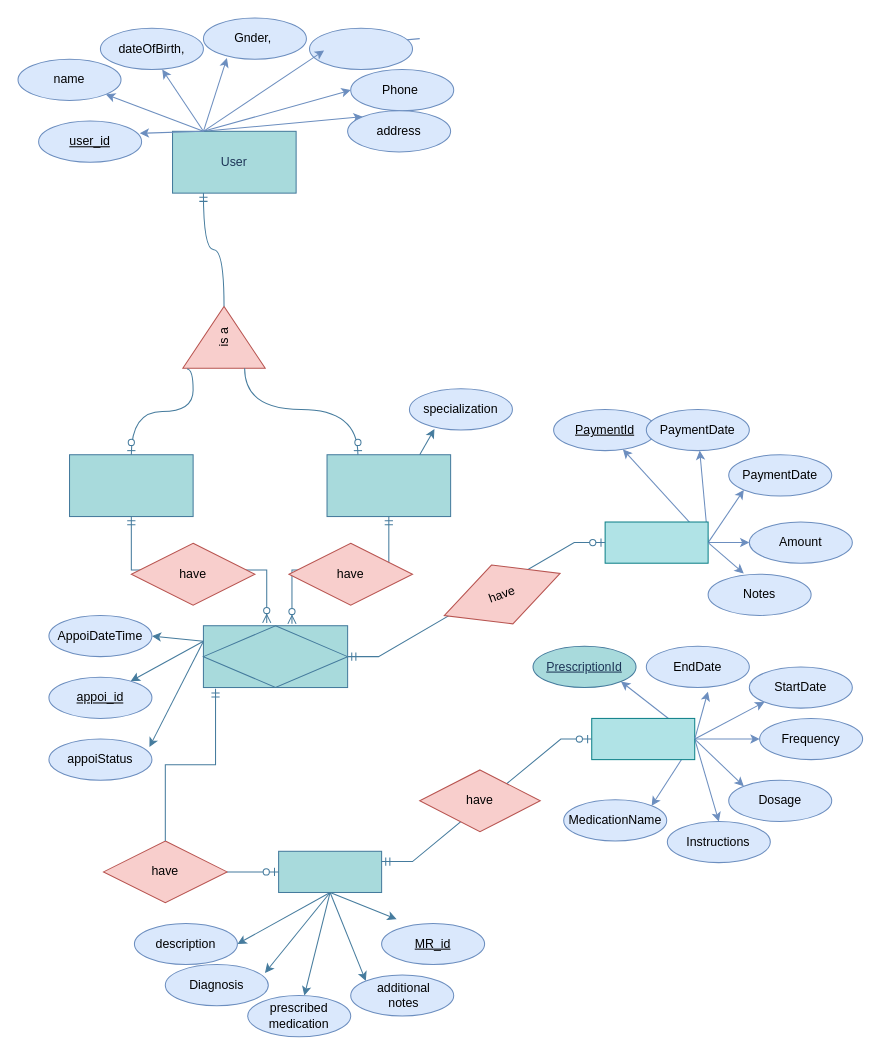
The diagram is 881 pixels wide and 1055 high, and some of its shapes have lost their labels. Here are the shapes that lost their labels. From the top down, the centre of each, then its label:
(x=360, y=48): emai
(x=130, y=485): Patient
(x=388, y=485): Docto
(x=656, y=542): Payment
(x=275, y=656): Appointment
(x=643, y=738): Prescription
(x=330, y=871): MedicalRecords
